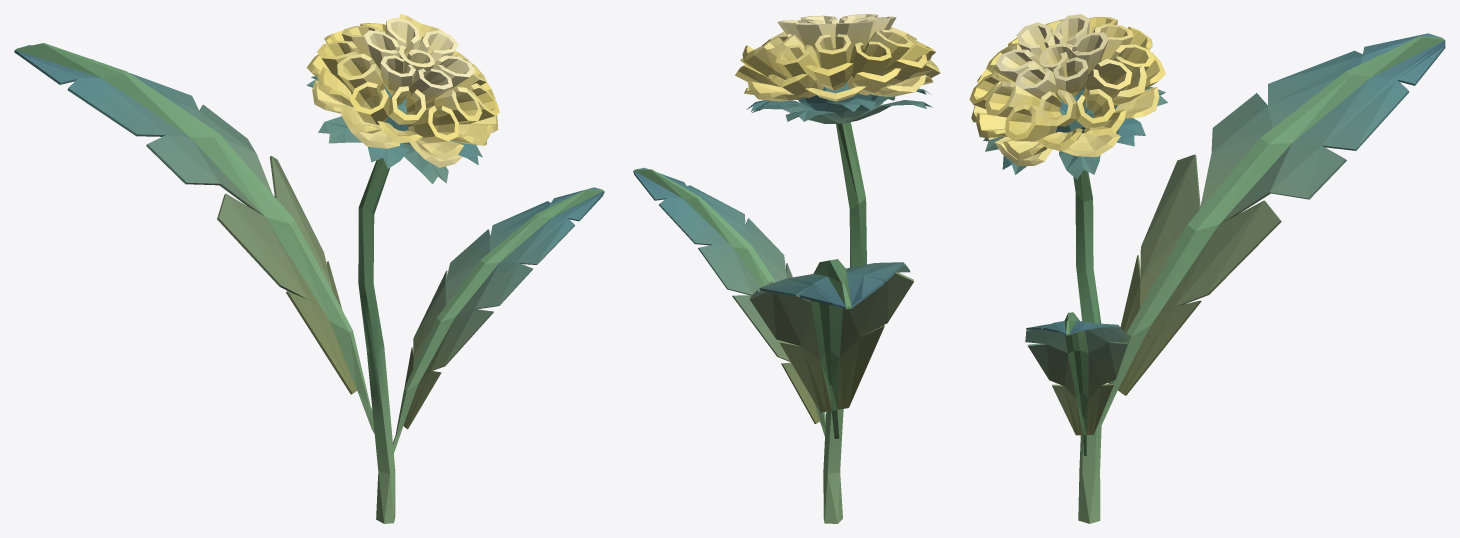
Rendered from Dahlia_Type02_Yellow.fbx.
3 views of the same model, side by side, from view 1: azimuth 30°, elevation 25°; view 2: azimuth 150°, elevation 25°; view 3: azimuth 270°, elevation 25° (orthographic).
Visible parts, largest first — view 1: Dahlia_Type02_Yellow; view 2: Dahlia_Type02_Yellow; view 3: Dahlia_Type02_Yellow.
Boxes of the visible parts, <box> form: Dahlia_Type02_Yellow: <box>14,14,604,523</box>; Dahlia_Type02_Yellow: <box>633,14,940,523</box>; Dahlia_Type02_Yellow: <box>969,14,1445,523</box>.
Size of the model in its own units: 35.05 by 40.83 by 35.76.
